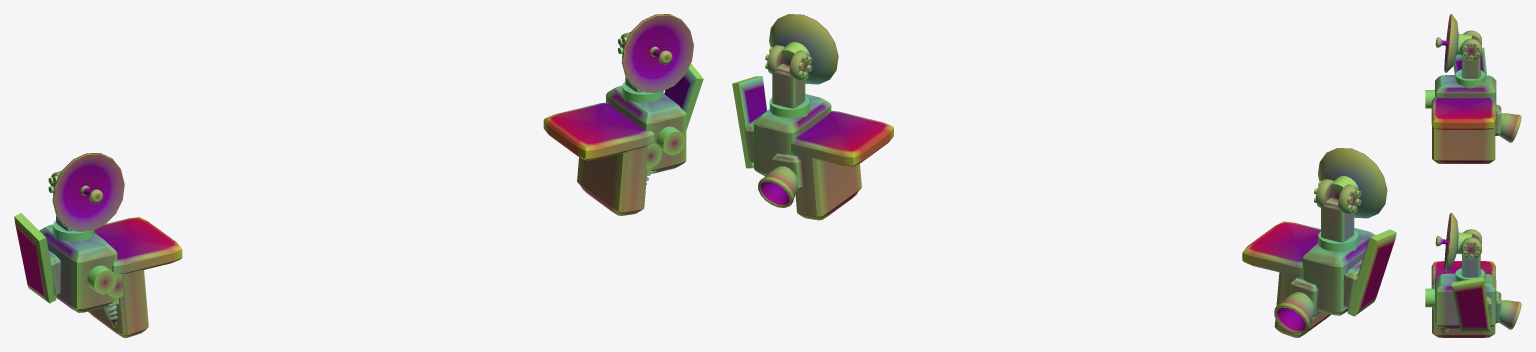
The model's file is llm_gen_shoulder_pods_017_3524ad.glb.
3 renders of one model, left to right at view 1: azimuth 30°, elevation 25°; view 2: azimuth 150°, elevation 25°; view 3: azimuth 270°, elevation 25°, orthographic. The views are drawn at different scales.
Parts seen in each view (by area): view 1: adapter_shoulder_yoke_r, adapter_shoulder_yoke_l, parabolic_dish_5_crimson_gloss_r, parabolic_dish_5_crimson_gloss_l, radar_housing_0_crimson_gloss_l, radar_housing_0_crimson_gloss_r, jammer_fin_8_adapter_dark_l, jammer_fin_8_adapter_dark_r, recon_optic_9_optic_cyan_l, recon_optic_9_optic_cyan_r; view 2: adapter_shoulder_yoke_r, adapter_shoulder_yoke_l, radar_housing_0_crimson_gloss_l, radar_housing_0_crimson_gloss_r, parabolic_dish_5_crimson_gloss_r, parabolic_dish_5_crimson_gloss_l, jammer_fin_8_adapter_dark_l, jammer_fin_8_adapter_dark_r, addon_sh_vernier_11_vernier_bell_vernier_l, addon_sh_vernier_11_vernier_bell_vernier_r, adapter_sub_dish_pedestal_dark_2_adapter_dark_r, adapter_sub_dish_pedestal_dark_2_adapter_dark_l (+7 smaller); view 3: adapter_shoulder_yoke_l, jammer_fin_8_adapter_dark_r, radar_housing_0_crimson_gloss_r, adapter_shoulder_yoke_r, radar_housing_0_crimson_gloss_l, parabolic_dish_5_crimson_gloss_r, parabolic_dish_5_crimson_gloss_l, addon_sh_vernier_11_vernier_bell_vernier_r, addon_sh_vernier_11_vernier_bell_vernier_l, servo_3_servo_accent_l, servo_3_servo_accent_r, adapter_sub_dish_pedestal_dark_2_adapter_dark_r (+15 smaller).
Boxes of the visible parts, <box> form: adapter_shoulder_yoke_r: <box>543,102,656,215</box>; adapter_shoulder_yoke_l: <box>88,217,182,337</box>; parabolic_dish_5_crimson_gloss_r: <box>621,14,693,92</box>; parabolic_dish_5_crimson_gloss_l: <box>52,153,124,231</box>; radar_housing_0_crimson_gloss_l: <box>39,224,117,312</box>; radar_housing_0_crimson_gloss_r: <box>606,85,686,173</box>; jammer_fin_8_adapter_dark_l: <box>14,213,56,303</box>; jammer_fin_8_adapter_dark_r: <box>664,63,703,130</box>; recon_optic_9_optic_cyan_l: <box>87,265,116,294</box>; recon_optic_9_optic_cyan_r: <box>656,126,685,155</box>; adapter_shoulder_yoke_r: <box>791,110,893,220</box>; adapter_shoulder_yoke_l: <box>1242,221,1330,337</box>; radar_housing_0_crimson_gloss_l: <box>1302,228,1375,315</box>; radar_housing_0_crimson_gloss_r: <box>754,94,831,175</box>; parabolic_dish_5_crimson_gloss_r: <box>769,14,838,84</box>; parabolic_dish_5_crimson_gloss_l: <box>1318,148,1387,218</box>; jammer_fin_8_adapter_dark_l: <box>1347,229,1396,316</box>; jammer_fin_8_adapter_dark_r: <box>732,76,767,168</box>; addon_sh_vernier_11_vernier_bell_vernier_l: <box>1274,292,1314,333</box>; addon_sh_vernier_11_vernier_bell_vernier_r: <box>758,166,798,207</box>; adapter_sub_dish_pedestal_dark_2_adapter_dark_r: <box>772,64,805,108</box>; adapter_sub_dish_pedestal_dark_2_adapter_dark_l: <box>1321,198,1354,242</box>; adapter_shoulder_yoke_l: <box>1431,96,1495,163</box>; jammer_fin_8_adapter_dark_r: <box>1451,277,1490,331</box>; radar_housing_0_crimson_gloss_r: <box>1435,273,1496,328</box>; adapter_shoulder_yoke_r: <box>1431,261,1495,337</box>; radar_housing_0_crimson_gloss_l: <box>1435,75,1496,106</box>; parabolic_dish_5_crimson_gloss_r: <box>1444,213,1458,271</box>; parabolic_dish_5_crimson_gloss_l: <box>1444,14,1458,72</box>; addon_sh_vernier_11_vernier_bell_vernier_r: <box>1499,300,1521,329</box>; addon_sh_vernier_11_vernier_bell_vernier_l: <box>1499,113,1521,142</box>; servo_3_servo_accent_l: <box>1460,30,1481,60</box>; servo_3_servo_accent_r: <box>1460,229,1481,259</box>; adapter_sub_dish_pedestal_dark_2_adapter_dark_r: <box>1462,255,1480,277</box>.
Bounding box in the file's own units: 112 × 29.43 × 19.45.
